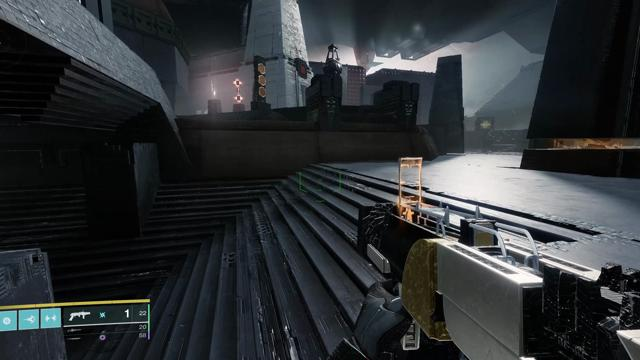stop: (299, 63, 307, 76)
